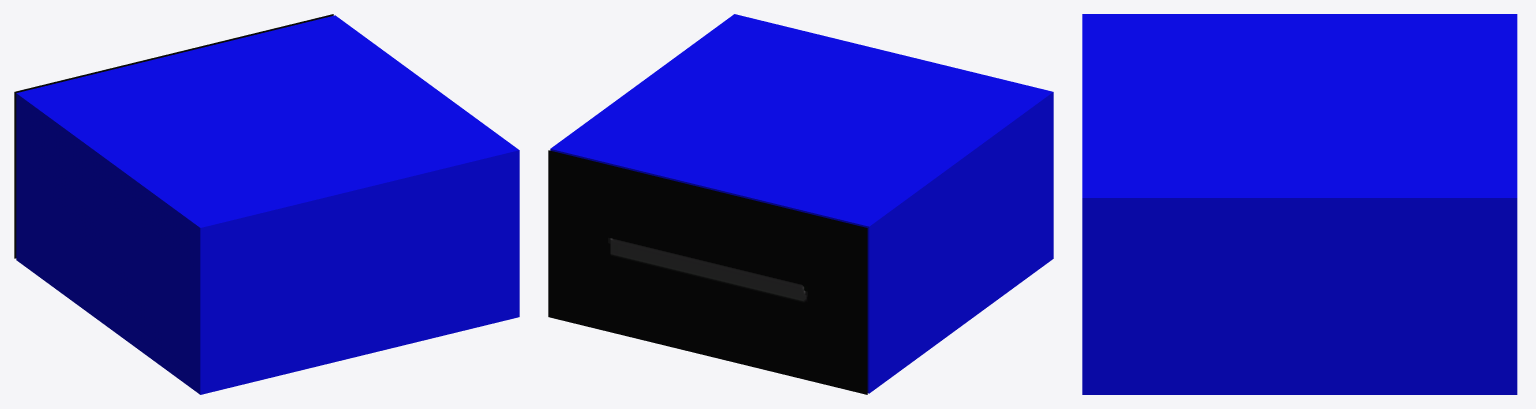
The model's file is vehicleseat.obj.
The picture shows the model from 3 angles, left to right: view 1: azimuth 30°, elevation 25°; view 2: azimuth 150°, elevation 25°; view 3: azimuth 270°, elevation 25°; orthographic projection. The views are drawn at different scales.
Parts seen in each view (by area): view 1: Vehicleseat1, Vehicleseat2; view 2: Vehicleseat1, Vehicleseat2; view 3: Vehicleseat1.
Part boxes in pixels (x1,y1,x2,y2): Vehicleseat1: [16, 15, 519, 394]; Vehicleseat2: [14, 14, 333, 258]; Vehicleseat1: [550, 14, 1053, 393]; Vehicleseat2: [548, 150, 867, 394]; Vehicleseat1: [1082, 14, 1517, 394].
Size of the model in its own units: 2 by 1 by 2.02.
2 materials, 1 textured.
